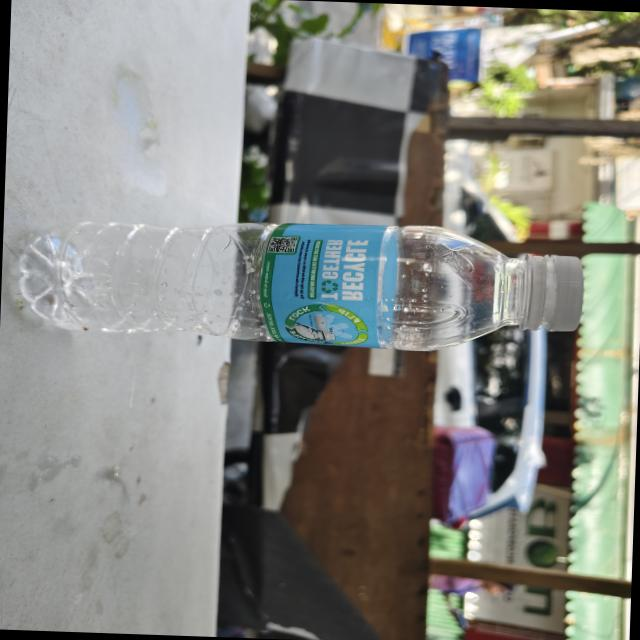Bottle: (19, 221, 583, 349)
